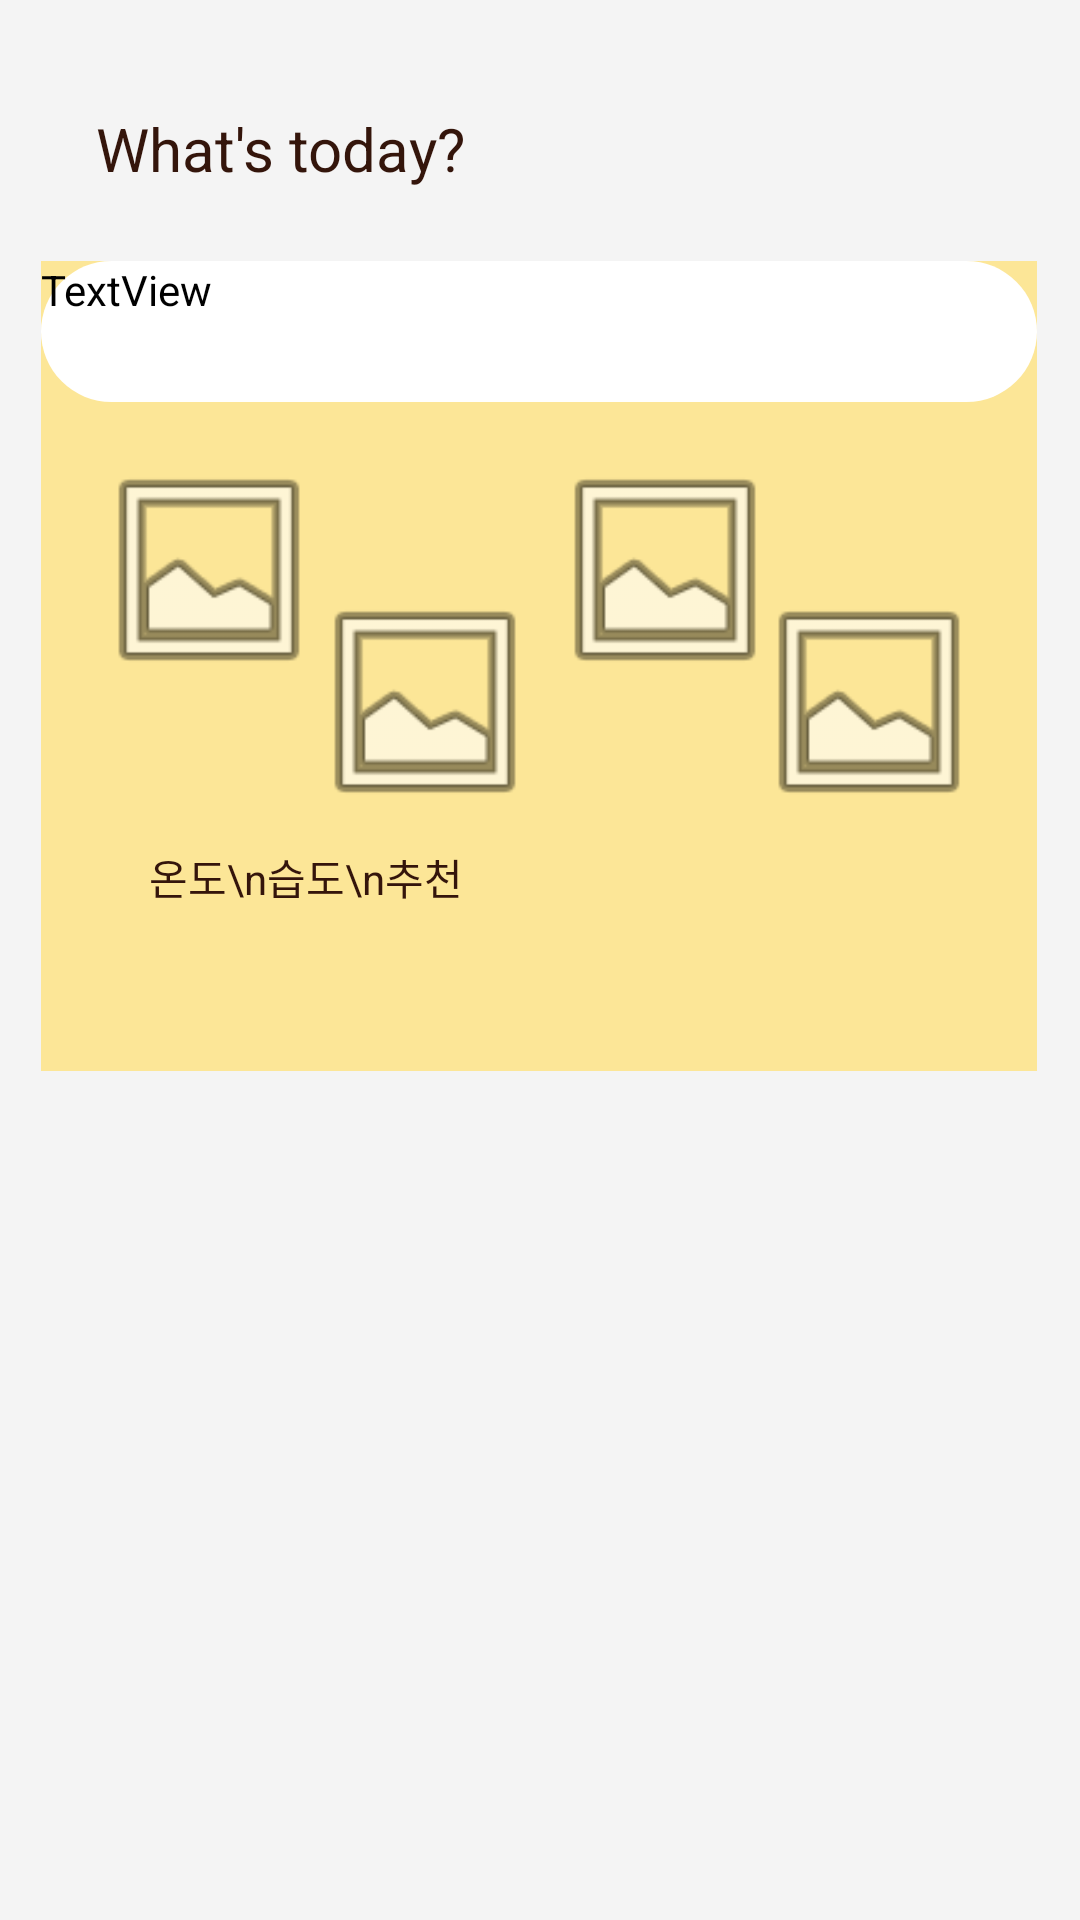

Icon bounding boxes for this 1080px×1920px phone screenshot, format (x1, y1, x2, y2):
gallery: (118, 479, 300, 661), (574, 479, 756, 661), (334, 611, 516, 793), (778, 611, 960, 793)
